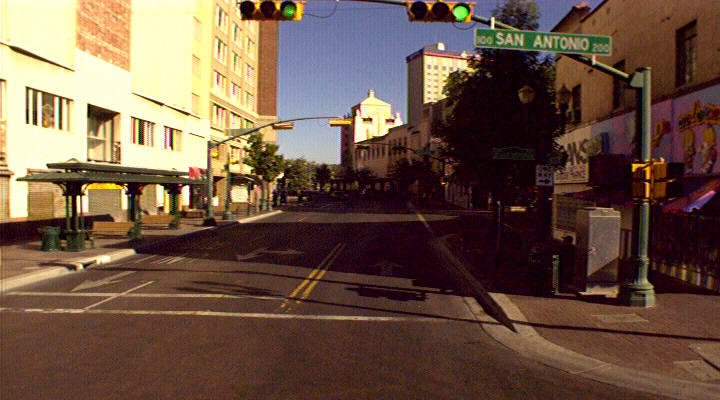Ramp: (500, 299, 720, 398)
